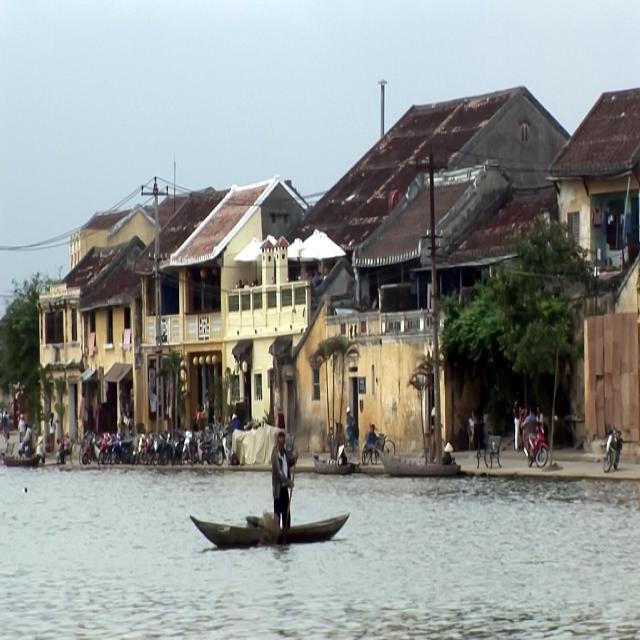boat: (181, 511, 351, 554)
